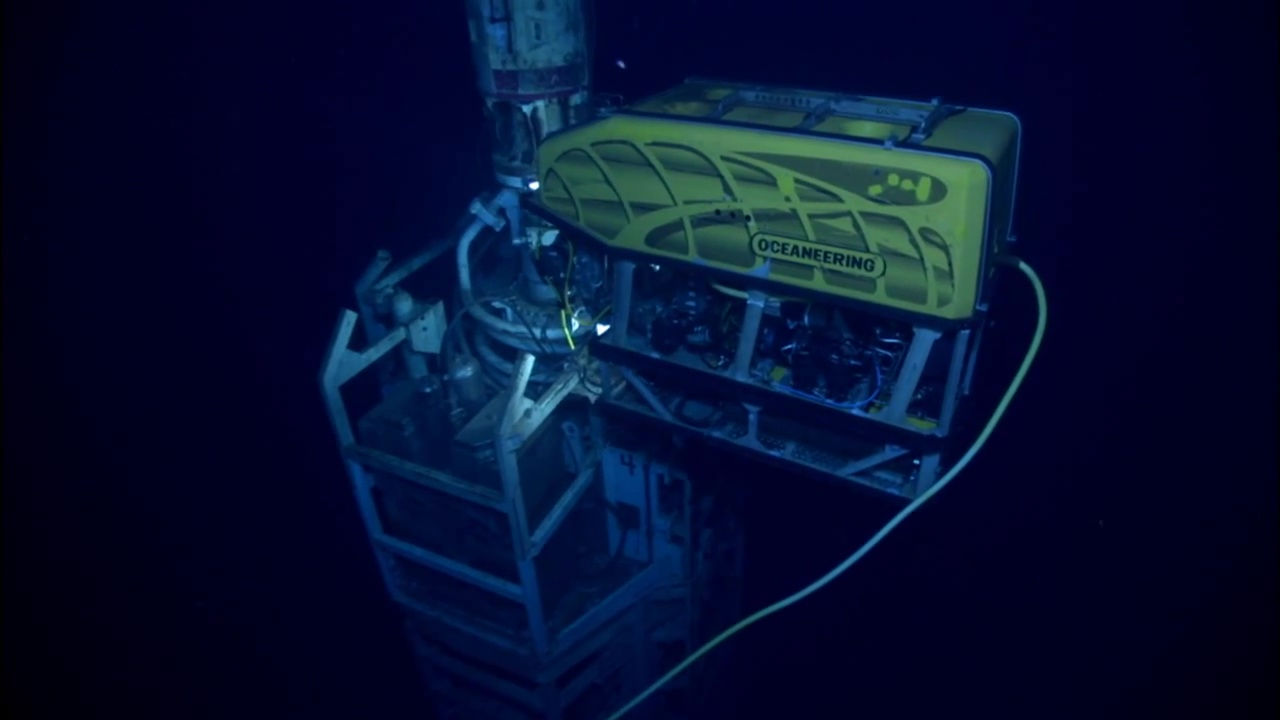flange joint: (215, 386, 368, 647), (524, 365, 646, 565), (728, 414, 840, 539)
